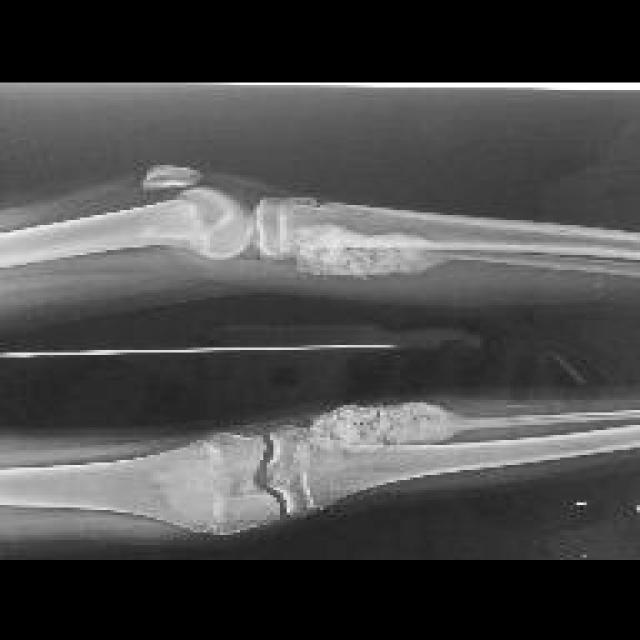bone-cancer: (295, 224, 438, 277), (310, 402, 452, 444)
